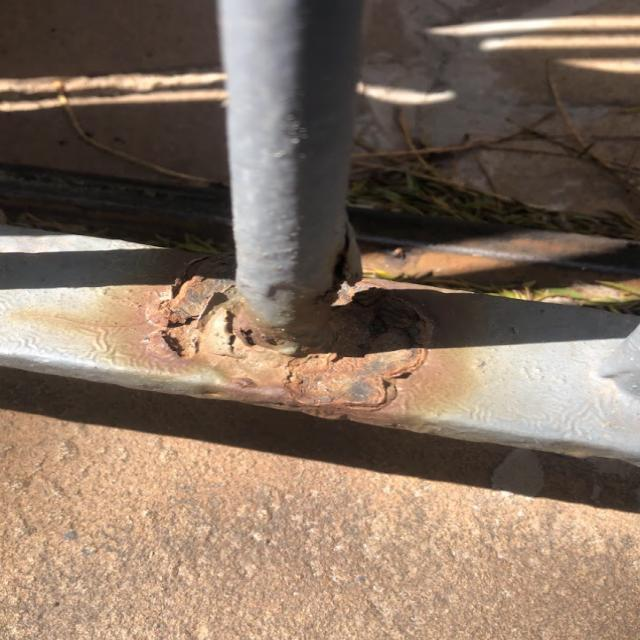Corrosion: (154, 249, 442, 434)
